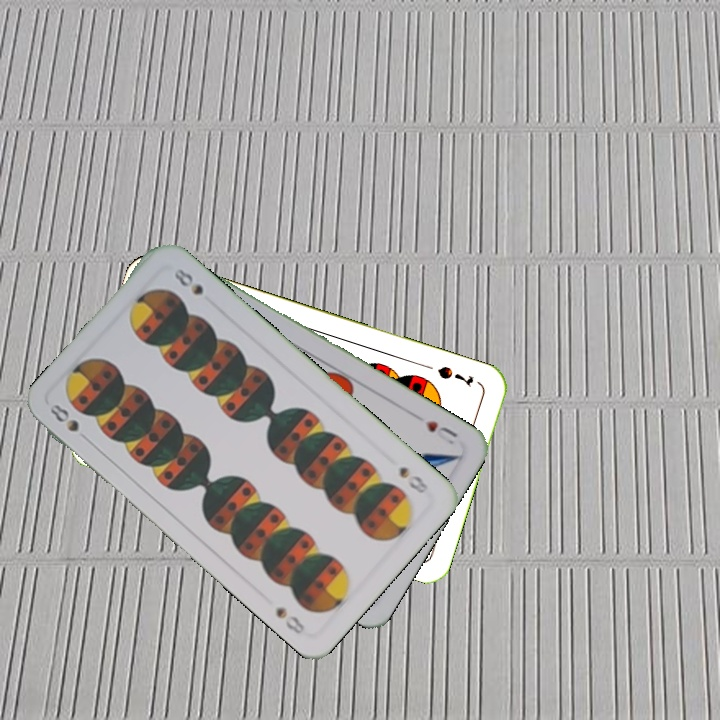HU: (422, 416, 461, 447)
S7: (433, 362, 476, 389)
S8: (45, 399, 82, 435), (395, 462, 431, 496)
